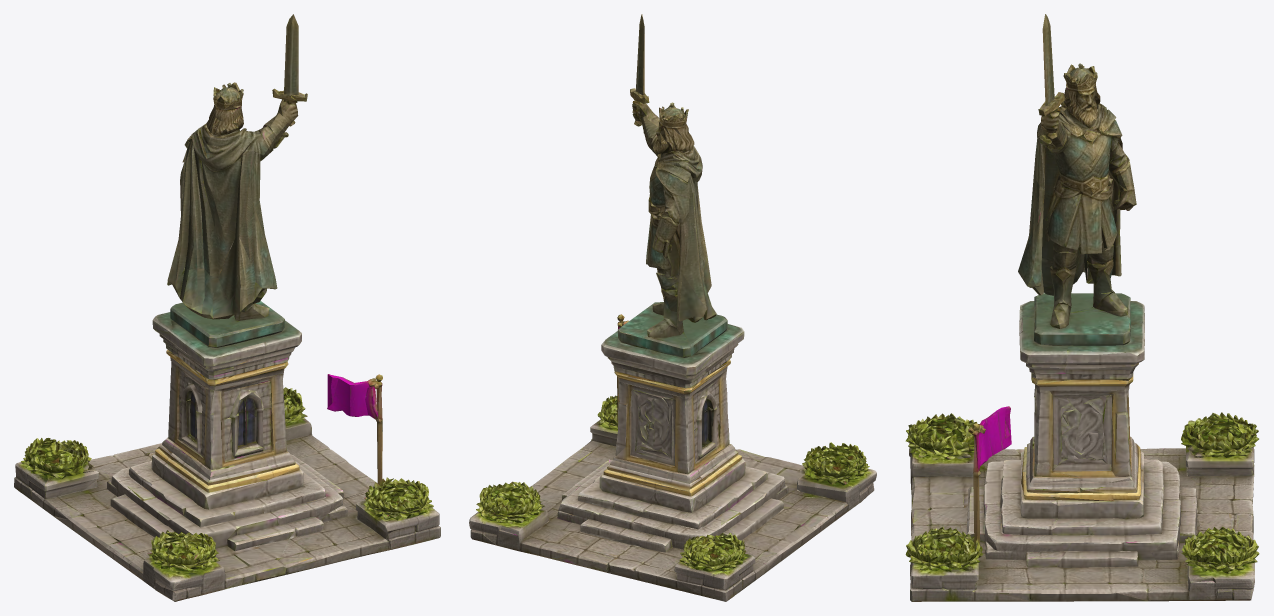
The model's file is statue.glb.
3 renders of one model, left to right at view 1: azimuth 30°, elevation 25°; view 2: azimuth 150°, elevation 25°; view 3: azimuth 270°, elevation 25°, orthographic. The views are drawn at different scales.
Visible parts, largest first — view 1: Mesh_0; view 2: Mesh_0; view 3: Mesh_0.
Part boxes in pixels (left/top/right/bottom): Mesh_0: left=14, top=14, right=440, bottom=601; Mesh_0: left=469, top=14, right=876, bottom=601; Mesh_0: left=905, top=14, right=1259, bottom=601.
Size of the model in its own units: 1.09 by 1.9 by 1.13.
Materials: 1 (1 with a texture image).
